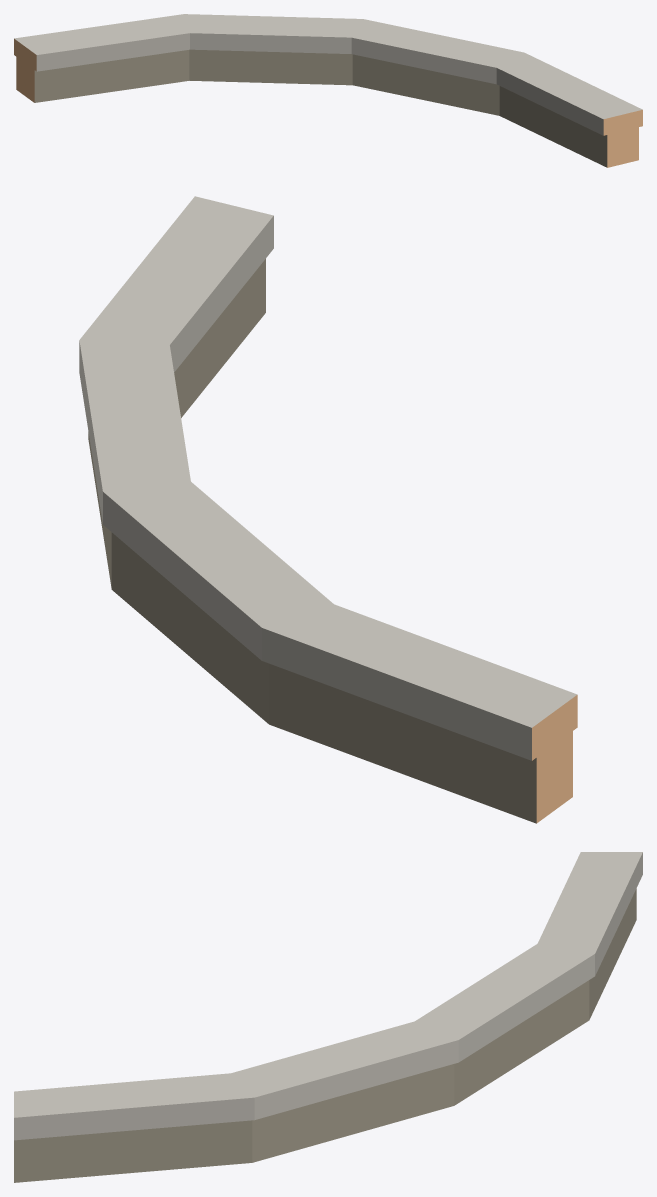
File: Tiered_Retaining_Wall_Flat_Curve_3x3_Top.glb
3 renders of one model, top to bottom at view 1: azimuth 30°, elevation 25°; view 2: azimuth 150°, elevation 25°; view 3: azimuth 270°, elevation 25°, orthographic. The views are drawn at different scales.
Parts seen in each view (by area): view 1: Tiered_Retaining_Wall_Flat_Curve_3x3_Top; view 2: Tiered_Retaining_Wall_Flat_Curve_3x3_Top; view 3: Tiered_Retaining_Wall_Flat_Curve_3x3_Top.
Part boxes in pixels (x1,y1,x2,y2): Tiered_Retaining_Wall_Flat_Curve_3x3_Top: (14,14,642,167); Tiered_Retaining_Wall_Flat_Curve_3x3_Top: (79,196,577,823); Tiered_Retaining_Wall_Flat_Curve_3x3_Top: (14,852,642,1182).
Bounding box in the file's own units: 316 × 37.5 × 316.
